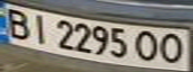2: (51, 16, 75, 52), (69, 20, 93, 55)
5: (109, 25, 133, 60)
9: (90, 23, 112, 57)
B: (0, 6, 36, 39)
I: (24, 11, 54, 44)
O: (133, 29, 163, 63), (157, 32, 187, 65)
